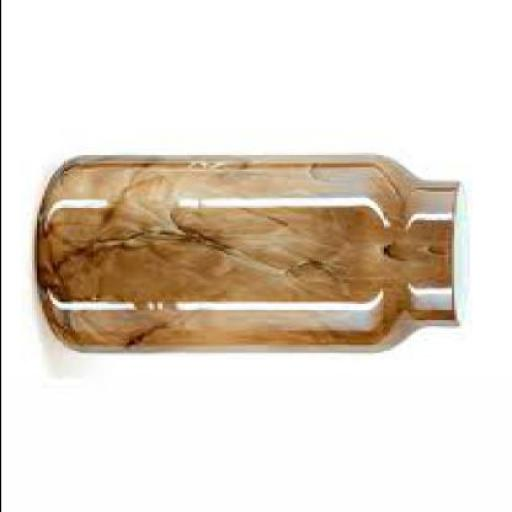glass: (36, 150, 469, 352)
